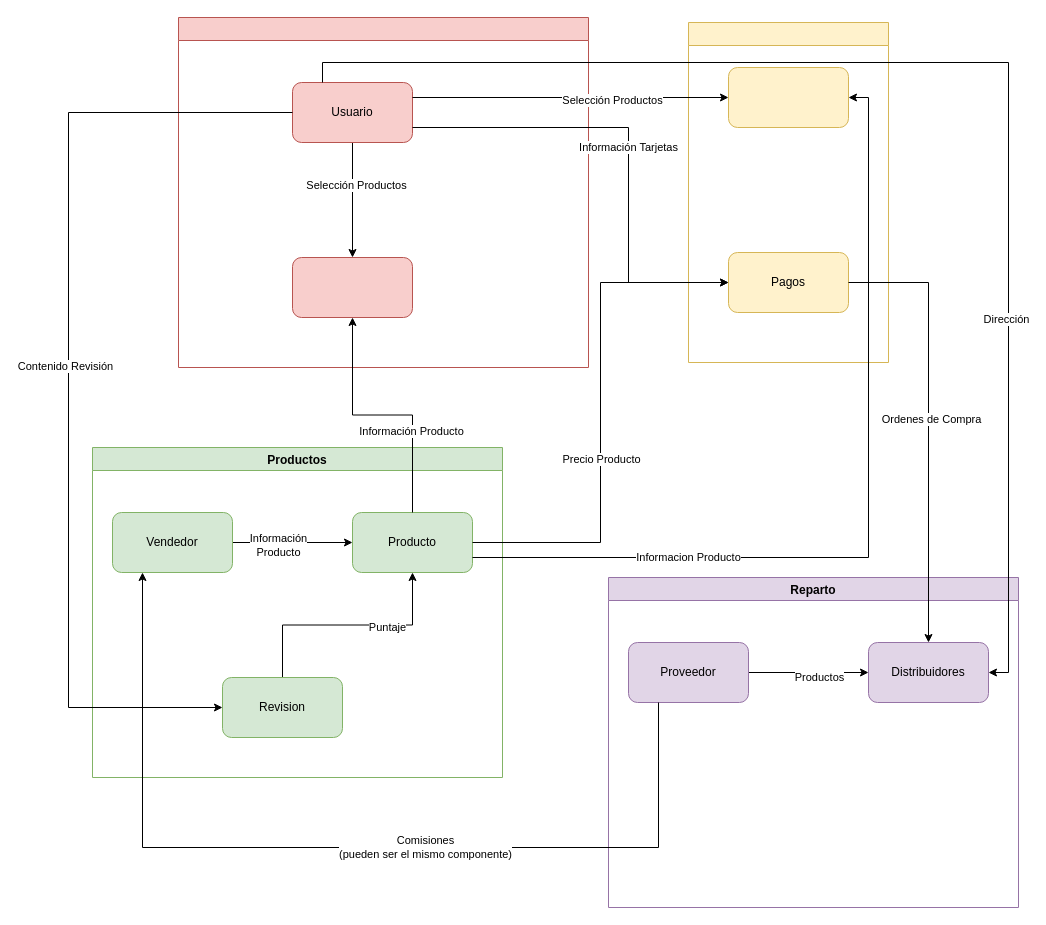
Image size: 1046x925. Some labels were removed from this diagram. Here are the shapes that lost their labels. From the top down, the box of each, then its label:
(728, 66, 848, 128): Carro de compras
(178, 16, 588, 368): Usuarios
(688, 22, 888, 362): Lógica de Compras
(292, 256, 412, 318): Lista de deseos
